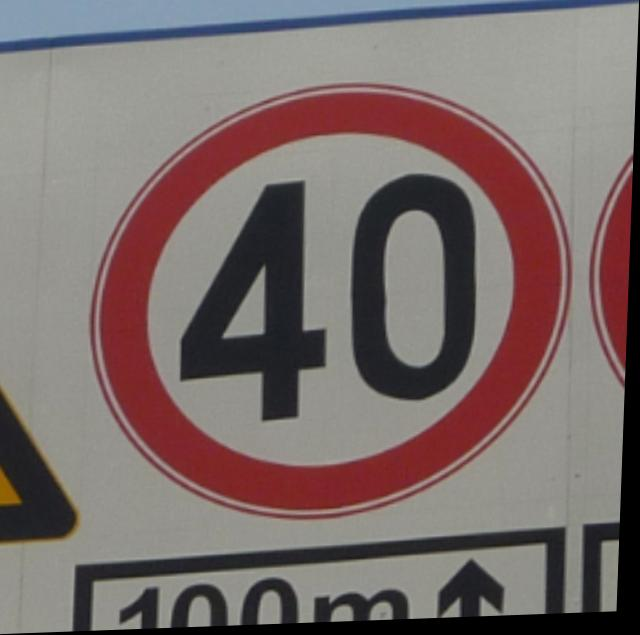limit40: (75, 67, 589, 533)
